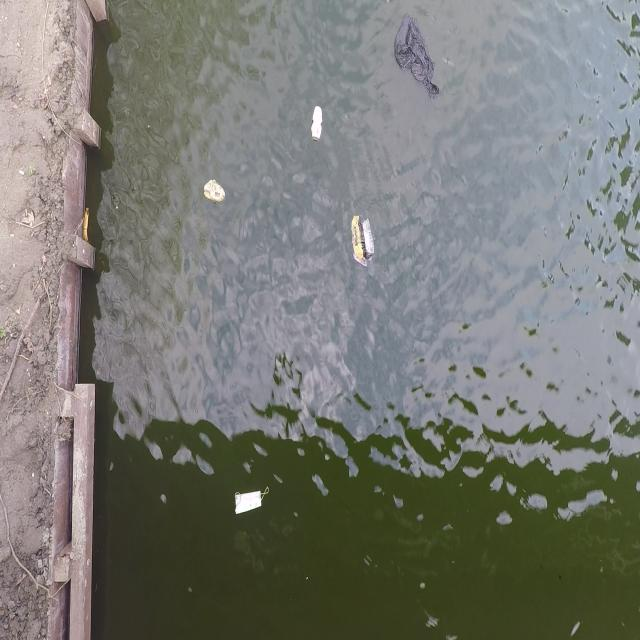Non plastique: (228, 481, 273, 519), (307, 98, 326, 145)
Sac plastique: (391, 7, 446, 105), (345, 202, 380, 276)
